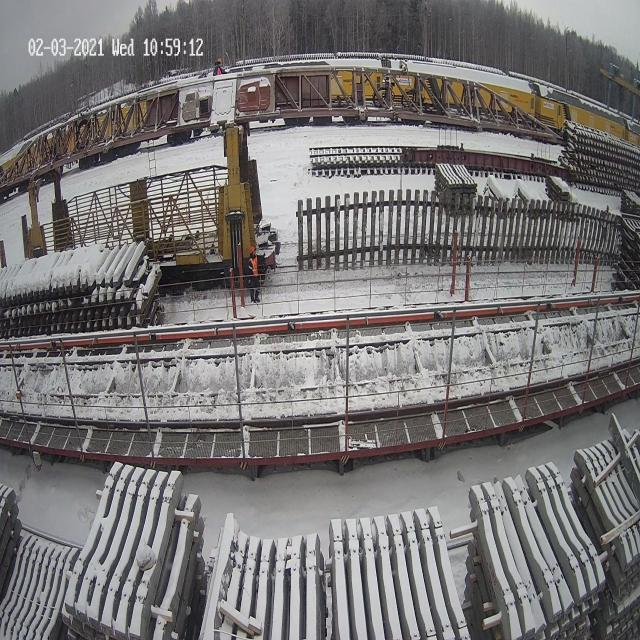Helmet: (249, 246, 255, 255)
Person: (248, 246, 260, 303), (212, 54, 224, 84)
